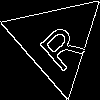R: (31, 15, 87, 74)
